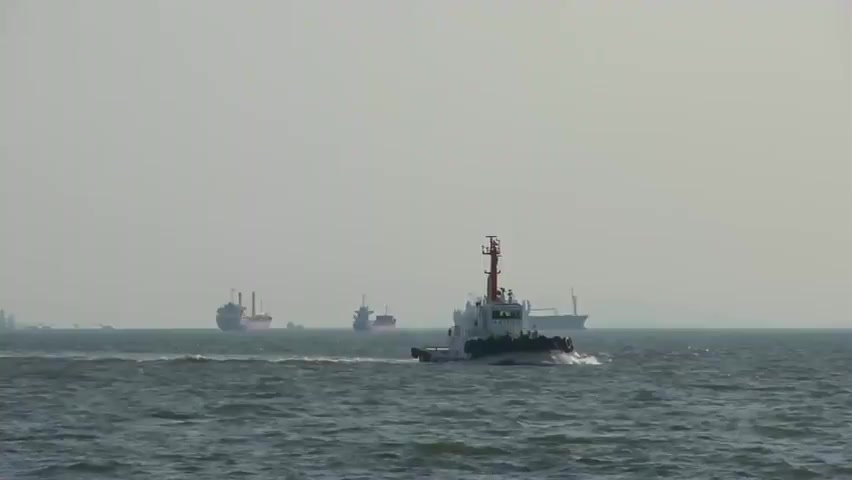boat: (408, 230, 581, 364)
